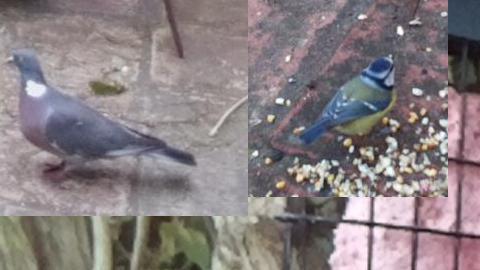blue tit: (298, 50, 398, 145)
wood pigeon: (3, 50, 198, 182)
